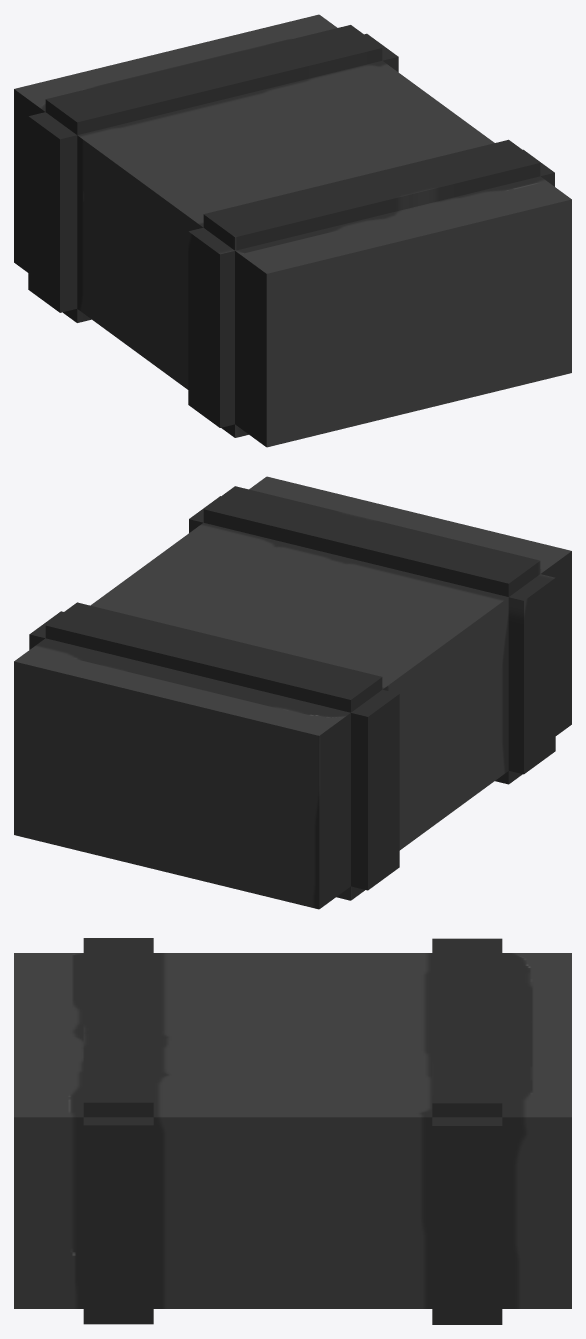
The model's file is ammo-pack1.glb.
The picture shows the model from 3 angles, top to bottom: view 1: azimuth 30°, elevation 25°; view 2: azimuth 150°, elevation 25°; view 3: azimuth 270°, elevation 25°; orthographic projection. The views are drawn at different scales.
Visible parts, largest first — view 1: Cube; view 2: Cube; view 3: Cube.
Boxes of the visible parts, left/top/right/bottom form: Cube: left=14, top=14, right=571, bottom=447; Cube: left=14, top=476, right=571, bottom=909; Cube: left=14, top=938, right=571, bottom=1324.
Bounding box in the file's own units: 1.48 × 0.8393 × 1.91.
Materials: 1 (1 with a texture image).
